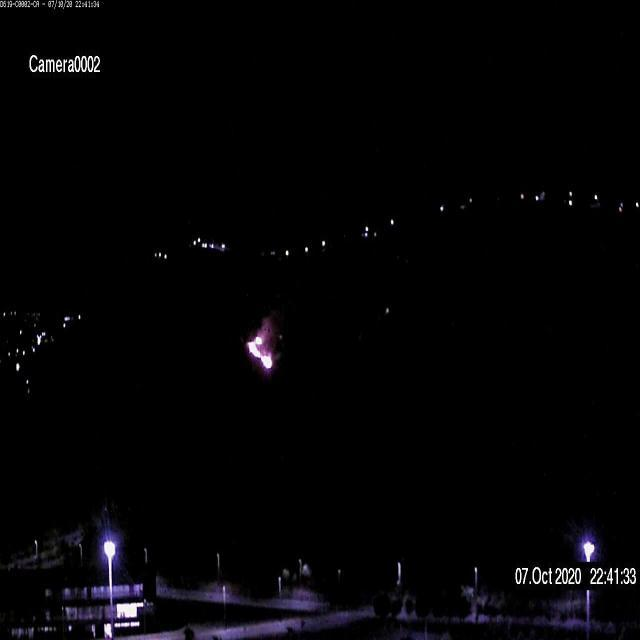Fire: (247, 324, 275, 372)
